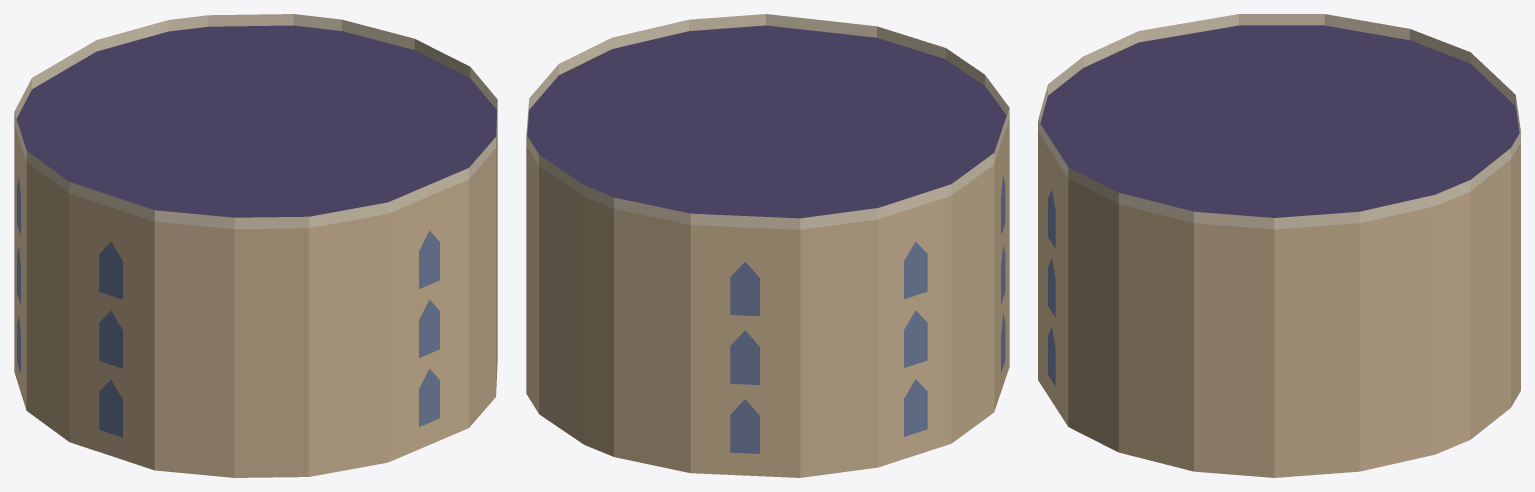
Rendered from b-096-day.glb.
The picture shows the model from 3 angles, left to right: view 1: azimuth 30°, elevation 25°; view 2: azimuth 150°, elevation 25°; view 3: azimuth 270°, elevation 25°; orthographic projection.
Parts seen in each view (by area): view 1: campus/b-096-day-0; view 2: campus/b-096-day-0; view 3: campus/b-096-day-0.
Part boxes in pixels (<box>): campus/b-096-day-0: <box>14,14,497,477</box>; campus/b-096-day-0: <box>526,14,1009,477</box>; campus/b-096-day-0: <box>1038,14,1520,477</box>.
Size of the model in its own units: 20.96 by 12.45 by 20.96.
